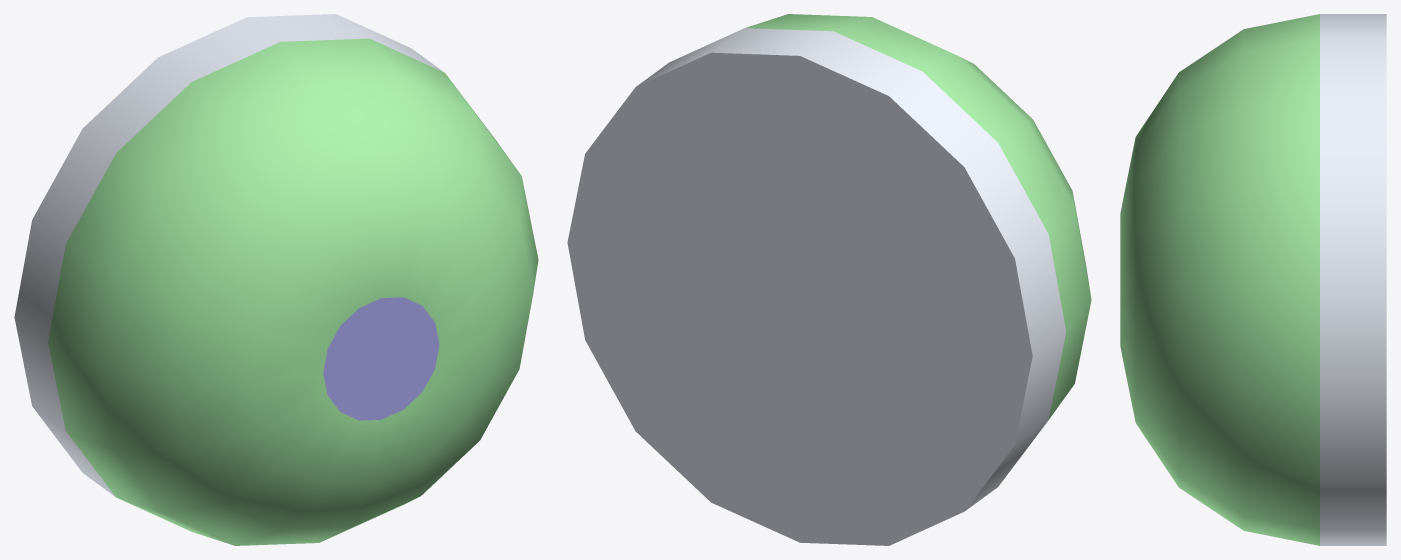
3 views of the same model, side by side, from view 1: azimuth 30°, elevation 25°; view 2: azimuth 150°, elevation 25°; view 3: azimuth 270°, elevation 25° (orthographic).
Visible parts, largest first — view 1: mesh8953, mesh8954, mesh8952; view 2: mesh8955, mesh8954, mesh8953; view 3: mesh8953, mesh8954.
Part boxes in pixels (box(x1,y1,x2,y2)): mesh8953: box(48, 38, 538, 545); mesh8954: box(14, 14, 443, 496); mesh8952: box(323, 297, 439, 420); mesh8955: box(567, 52, 1032, 545); mesh8954: box(636, 28, 1066, 510); mesh8953: box(745, 14, 1091, 419); mesh8953: box(1120, 14, 1319, 545); mesh8954: box(1320, 14, 1386, 545).
Bounding box in the file's own units: 0.004 × 0.004 × 0.002.
